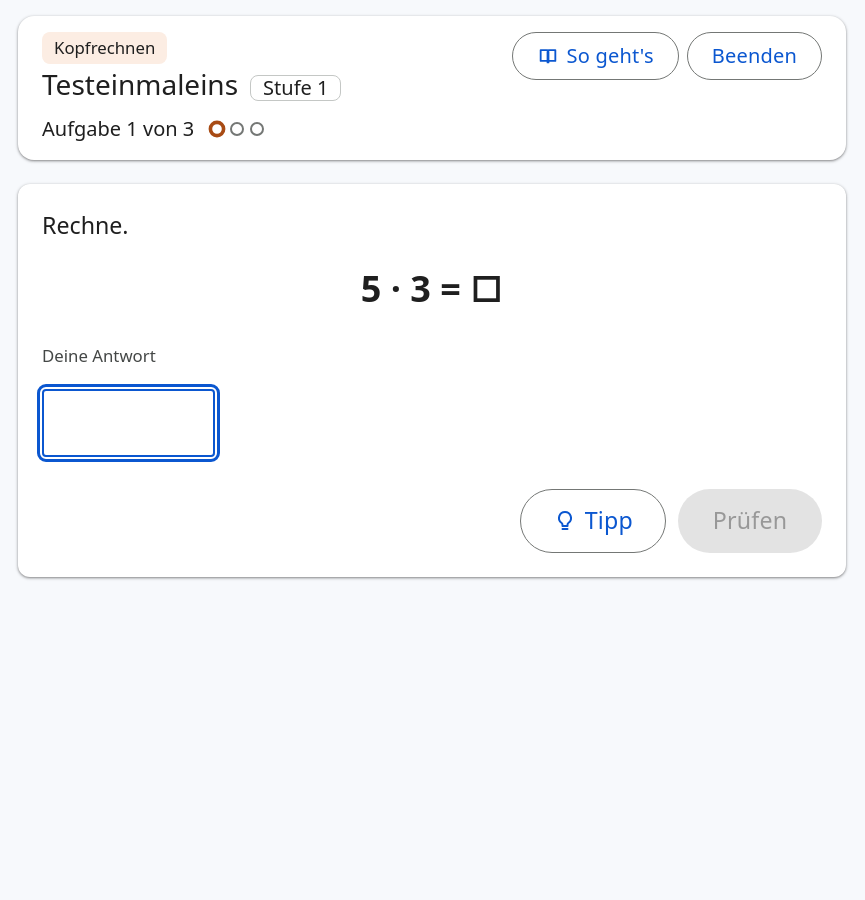
Test: PracticePage: consent, round end, breaks › a real pause (> 10 minutes without practice) restarts the break timer
Expected: the button "Prüfen" is shown, [678,489,822,553]
Step 1. Type "15" into the field labelled "Deine Antwort" → (129, 423), box [42,389,215,457]
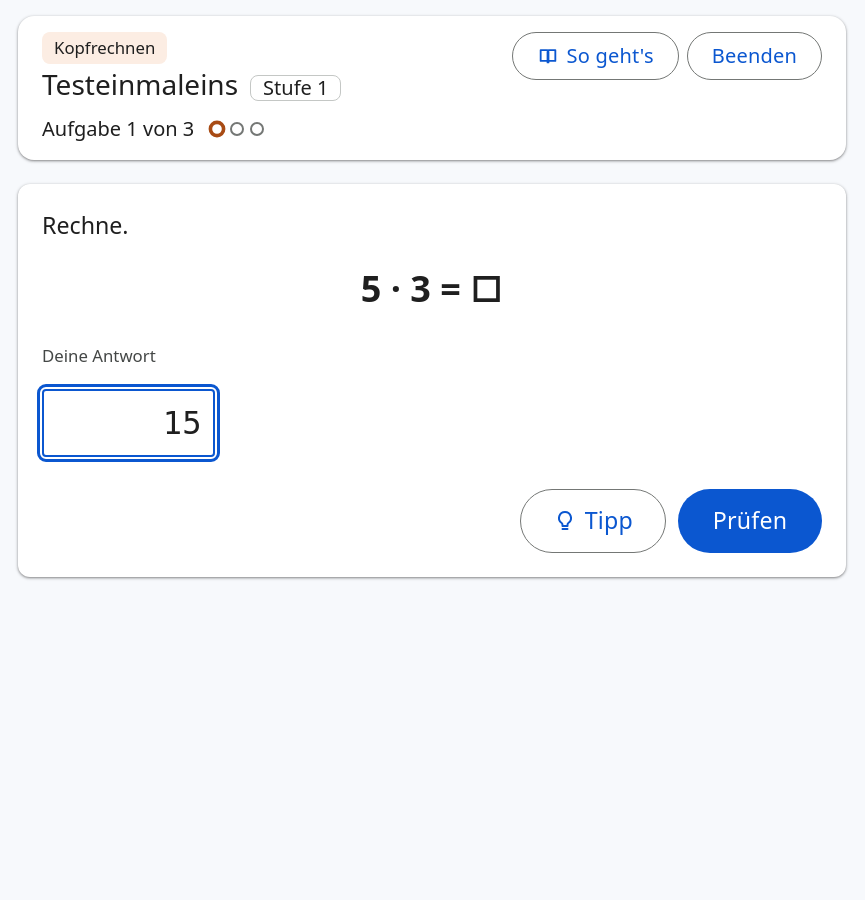
Step 2. Click the button "Prüfen" → (750, 521), box [678,489,822,553]
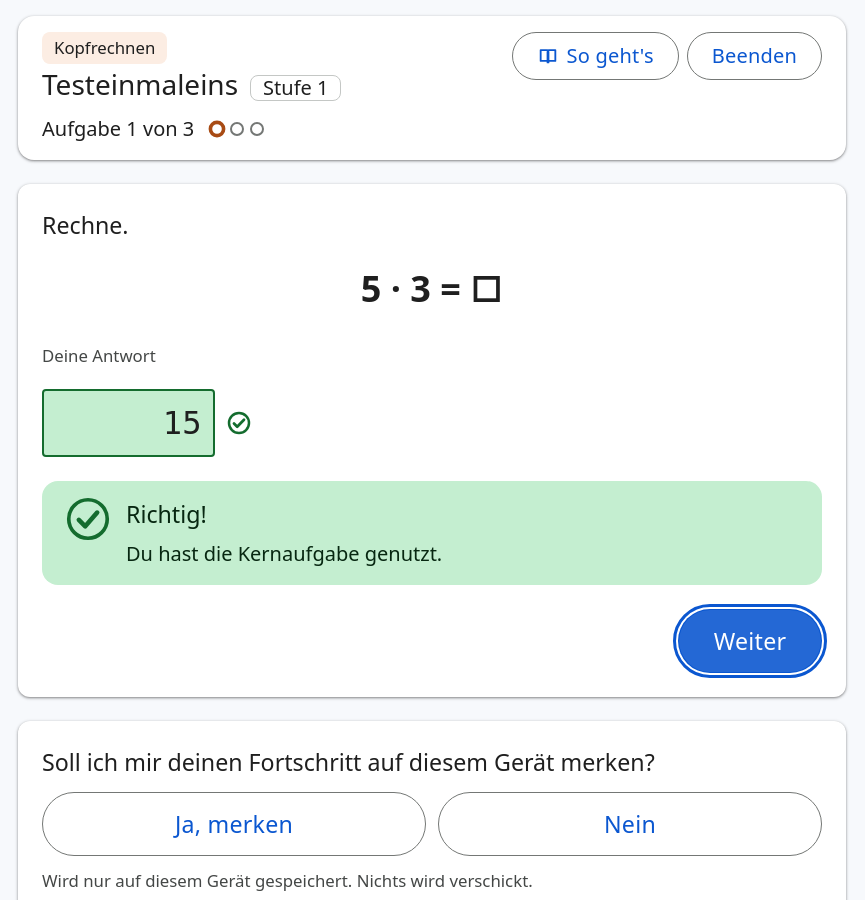
Step 3. Click the button "Weiter" → (750, 641), box [678,609,822,673]
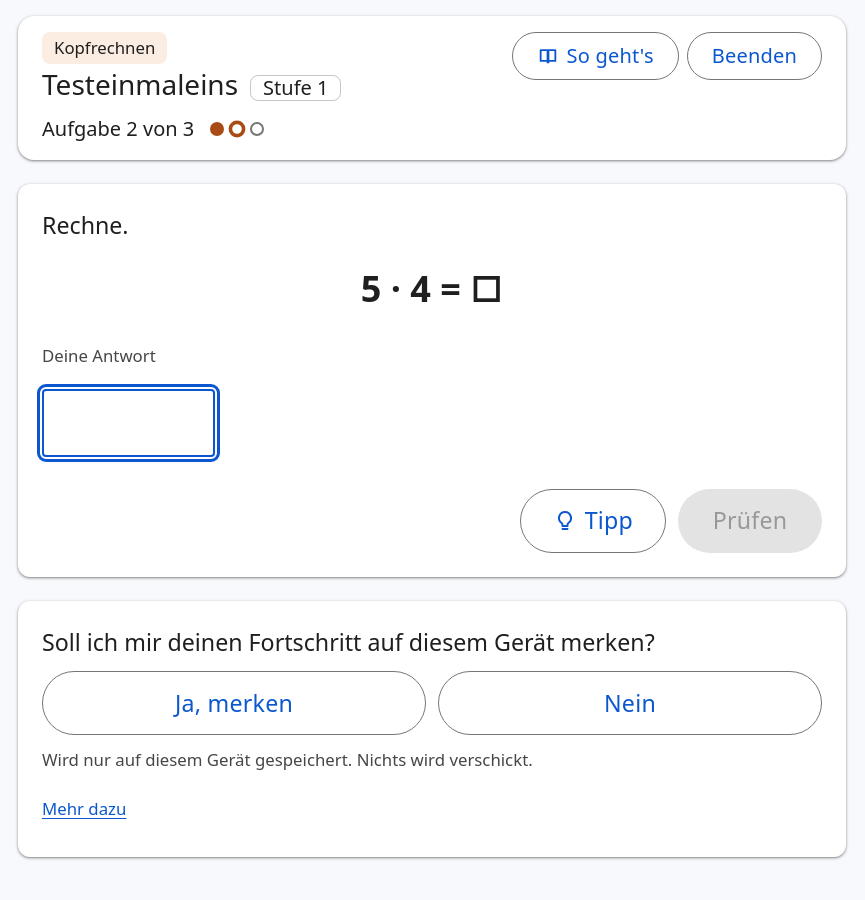
Result: the text "Aufgabe 2 von 3" is shown at [42,114,194,144]
